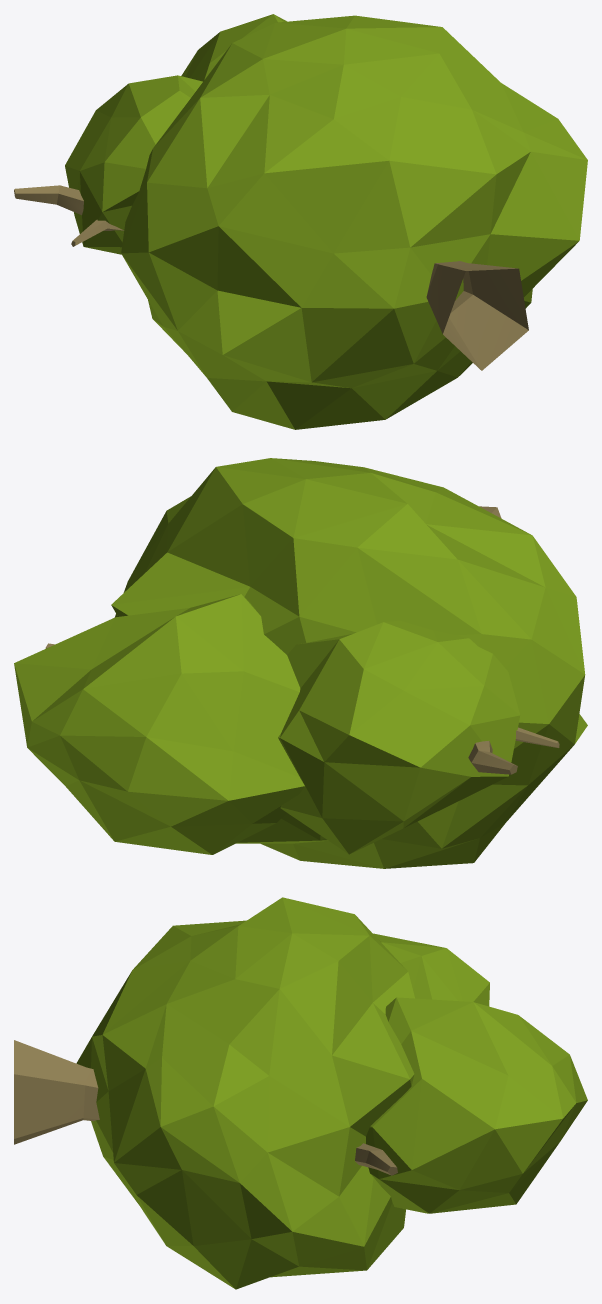
File: LowPoly - Bush 02.fbx
3 renders of one model, top to bottom at view 1: azimuth 30°, elevation 25°; view 2: azimuth 150°, elevation 25°; view 3: azimuth 270°, elevation 25°, orthographic. The views are drawn at different scales.
Parts seen in each view (by area): view 1: LowPoly - Bush 02; view 2: LowPoly - Bush 02; view 3: LowPoly - Bush 02.
Part boxes in pixels (left/top/right/bottom): LowPoly - Bush 02: left=14, top=14, right=587, bottom=429; LowPoly - Bush 02: left=14, top=458, right=587, bottom=868; LowPoly - Bush 02: left=14, top=897, right=587, bottom=1289.
Size of the model in its own units: 241 by 181 by 279.
